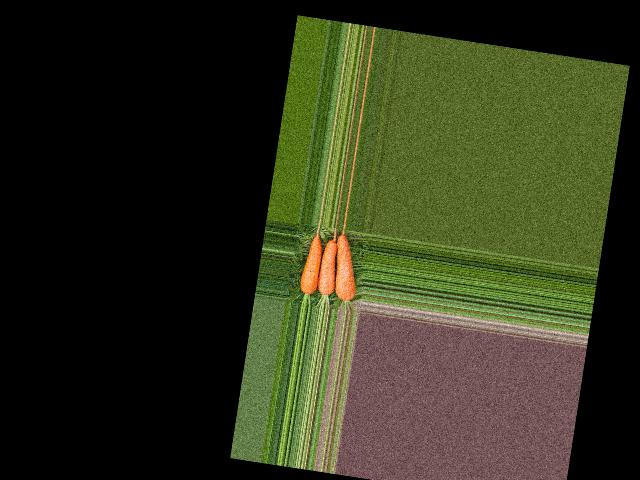carrot: (328, 233, 364, 302)
